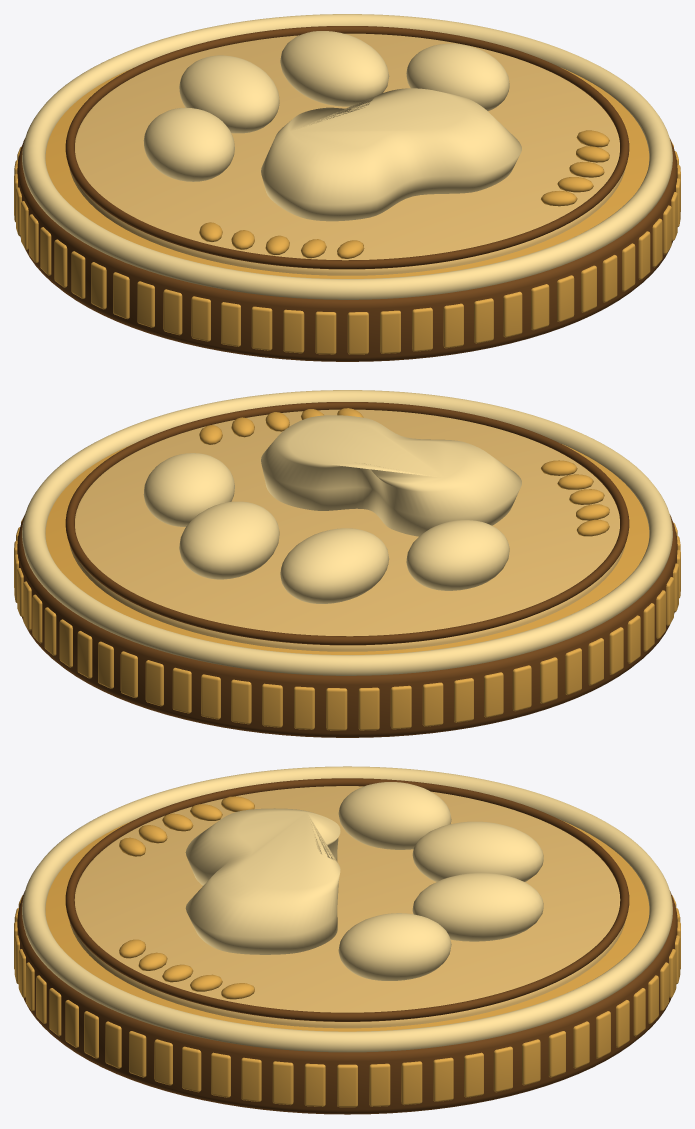
The model's file is PawCoin.fbx.
3 views of the same model, one above another, from view 1: azimuth 30°, elevation 25°; view 2: azimuth 150°, elevation 25°; view 3: azimuth 270°, elevation 25° (orthographic).
Visible parts, largest first — view 1: PawCoin; view 2: PawCoin; view 3: PawCoin.
Part boxes in pixels (x1,y1,x2,y2): PawCoin: [14, 14, 680, 361]; PawCoin: [14, 390, 680, 737]; PawCoin: [14, 766, 680, 1114].
Size of the model in its own units: 1.01 by 0.2125 by 1.01.
